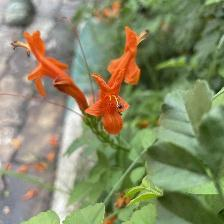honeysuckle: (12, 26, 86, 109), (87, 69, 135, 134), (105, 26, 152, 91)
